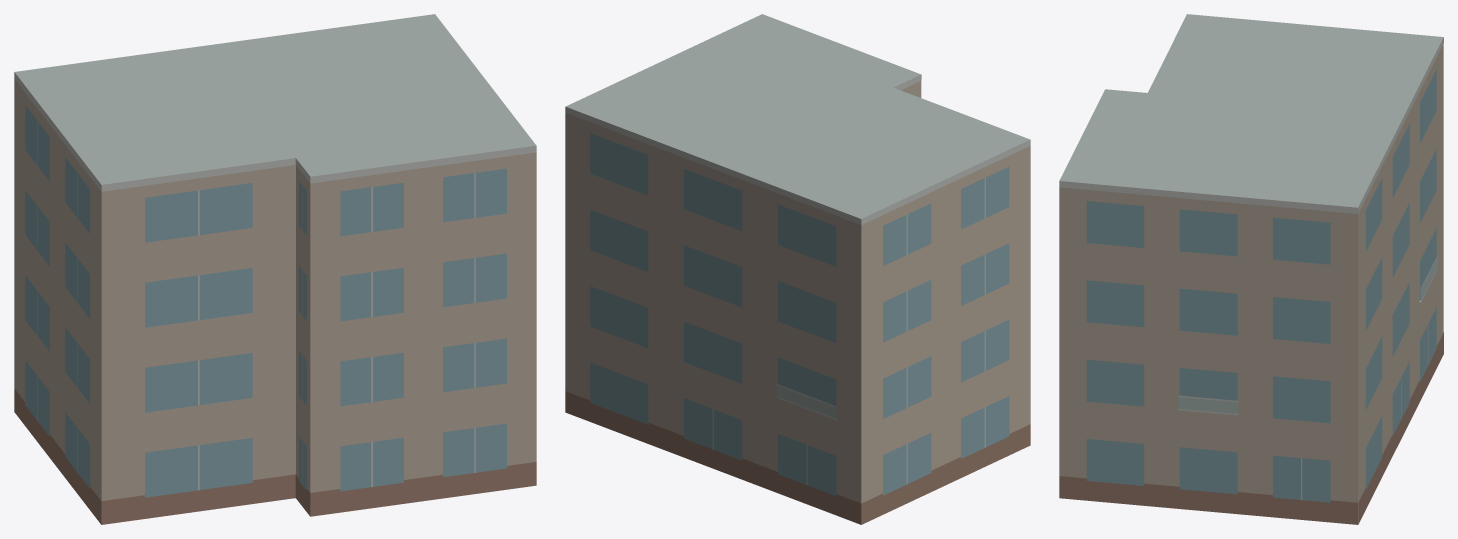
Rendered from residential-5b4fb207-bff8-44d9-86f6-2cece25120e6.glb.
The picture shows the model from 3 angles, left to right: view 1: azimuth 30°, elevation 25°; view 2: azimuth 150°, elevation 25°; view 3: azimuth 270°, elevation 25°; orthographic projection. The views are drawn at different scales.
Visible parts, largest first — view 1: residential-5b4fb207-bff8-44d9-86f6-2cece25120e6.tmp; view 2: residential-5b4fb207-bff8-44d9-86f6-2cece25120e6.tmp; view 3: residential-5b4fb207-bff8-44d9-86f6-2cece25120e6.tmp.
Boxes of the visible parts, bbox=[...] form: residential-5b4fb207-bff8-44d9-86f6-2cece25120e6.tmp: bbox=[14, 14, 536, 524]; residential-5b4fb207-bff8-44d9-86f6-2cece25120e6.tmp: bbox=[565, 14, 1030, 524]; residential-5b4fb207-bff8-44d9-86f6-2cece25120e6.tmp: bbox=[1059, 14, 1443, 524].
Size of the model in its own units: 15.98 by 12.2 by 13.41.
